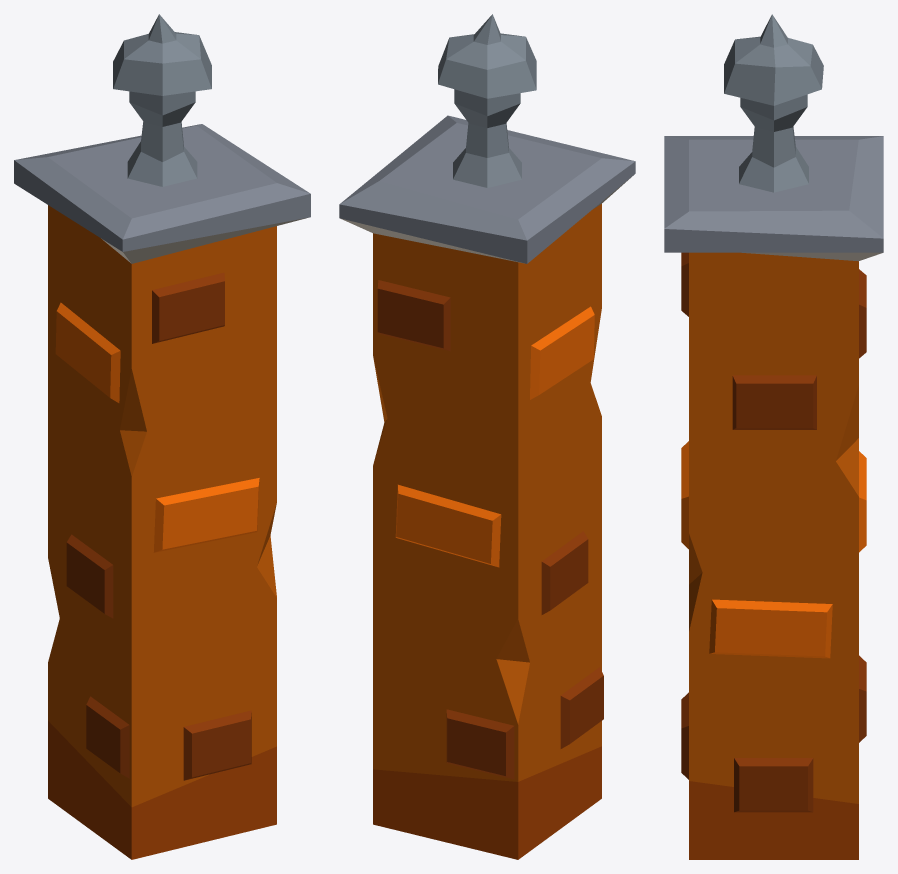
File: fence post.fbx
3 views of the same model, side by side, from view 1: azimuth 30°, elevation 25°; view 2: azimuth 150°, elevation 25°; view 3: azimuth 270°, elevation 25° (orthographic).
Parts seen in each view (by area): view 1: SM_Env_Fence_End_01 (1); view 2: SM_Env_Fence_End_01 (1); view 3: SM_Env_Fence_End_01 (1).
Boxes of the visible parts, box(x1,y1,x2,y2) form: SM_Env_Fence_End_01 (1): box(14, 14, 310, 859); SM_Env_Fence_End_01 (1): box(339, 14, 635, 859); SM_Env_Fence_End_01 (1): box(664, 14, 883, 859).
Bounding box in the file's own units: 711 × 2885 × 711.
1 material, 1 textured.
